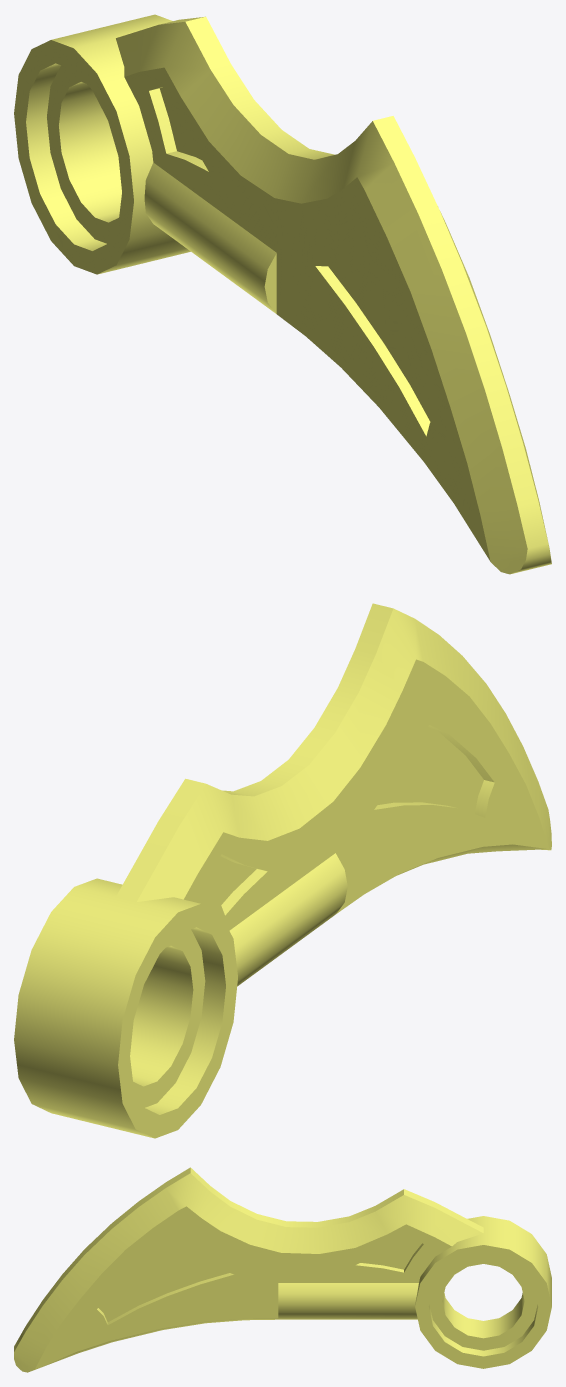
3 views of the same model, one above another, from view 1: azimuth 30°, elevation 25°; view 2: azimuth 150°, elevation 25°; view 3: azimuth 270°, elevation 25° (orthographic). The views are drawn at different scales.
Visible parts, largest first — view 1: 98347.dat; view 2: 98347.dat; view 3: 98347.dat.
Part boxes in pixels (x1,y1,x2,y2): 98347.dat: [14, 14, 551, 574]; 98347.dat: [14, 603, 551, 1138]; 98347.dat: [14, 1167, 551, 1372].
Size of the model in its own units: 0.004 by 0.0126 by 0.0314.
